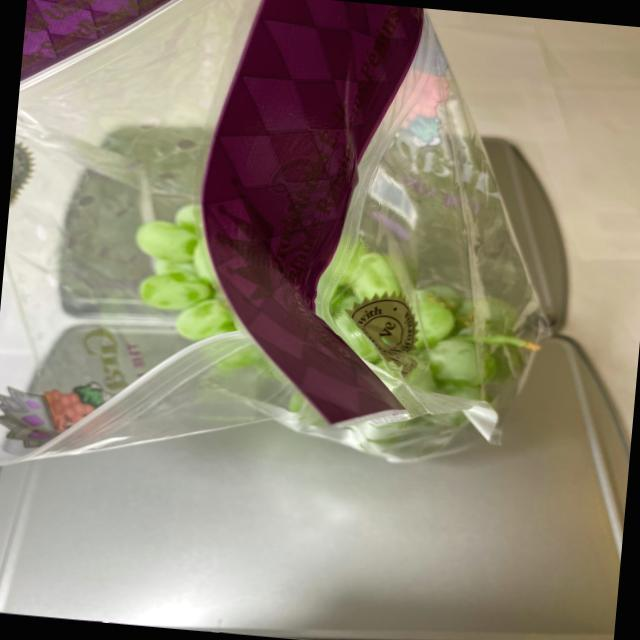grapes: (98, 183, 523, 418)
